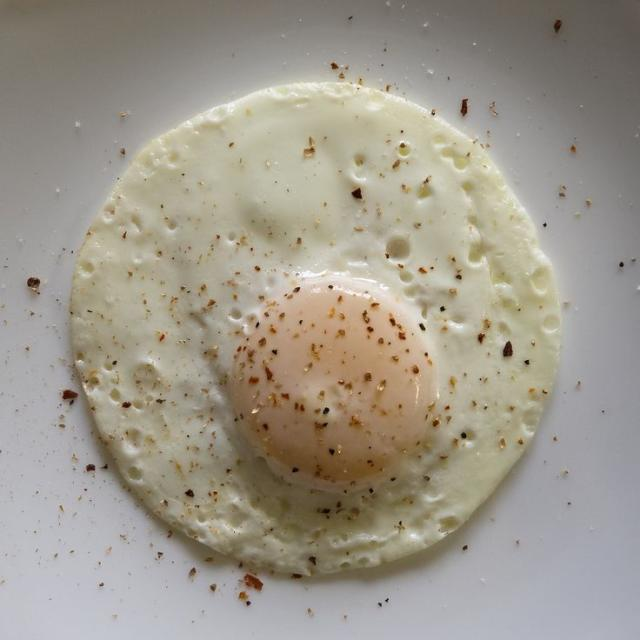fryed egg: (72, 84, 559, 573)
